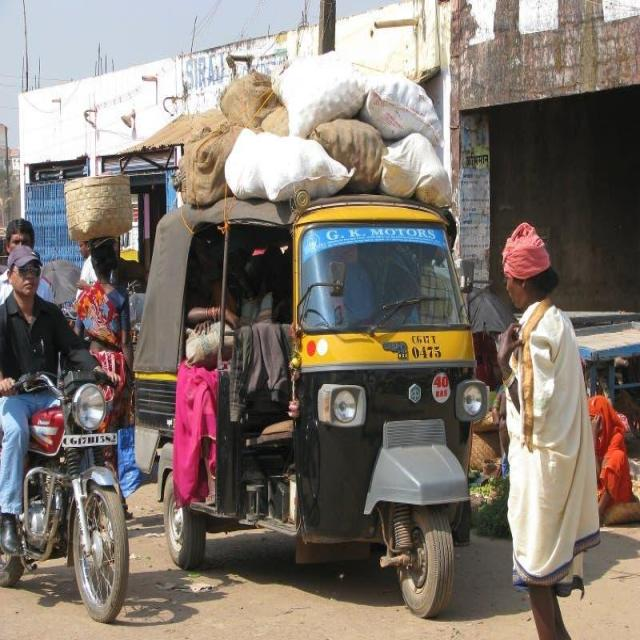autorickshaw: (134, 195, 489, 616)
motorcycle: (0, 247, 129, 621)
